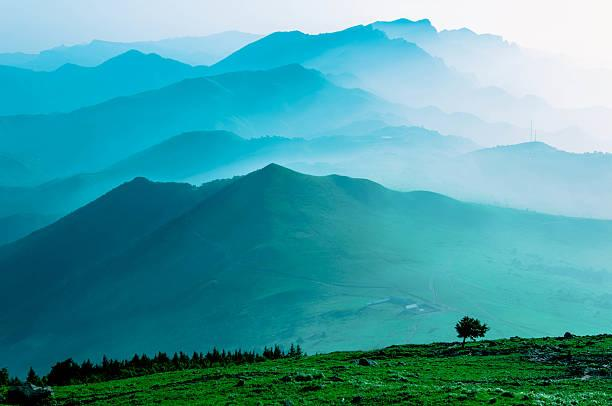Non_Gorille: (96, 42, 487, 374)
